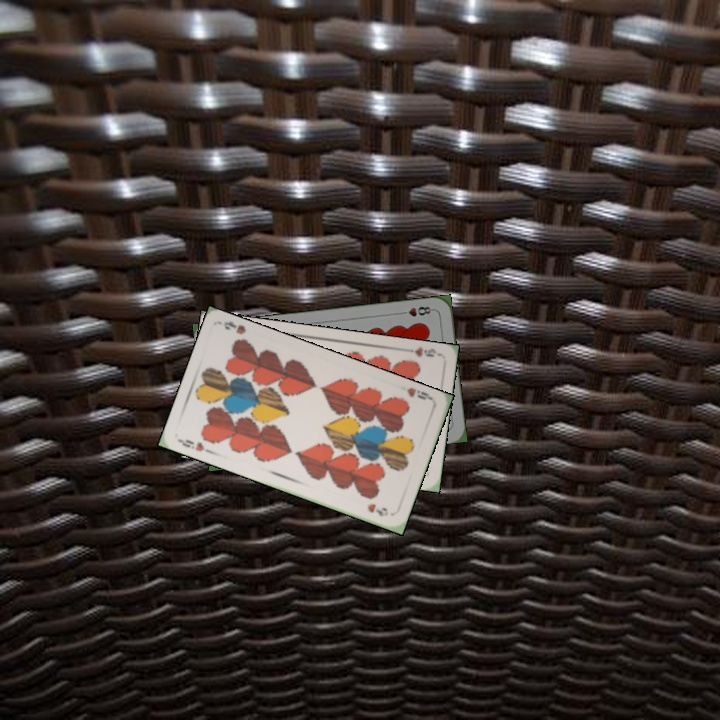H8: (395, 302, 436, 319)
H9: (403, 383, 435, 403), (401, 343, 438, 360), (175, 435, 207, 454)
